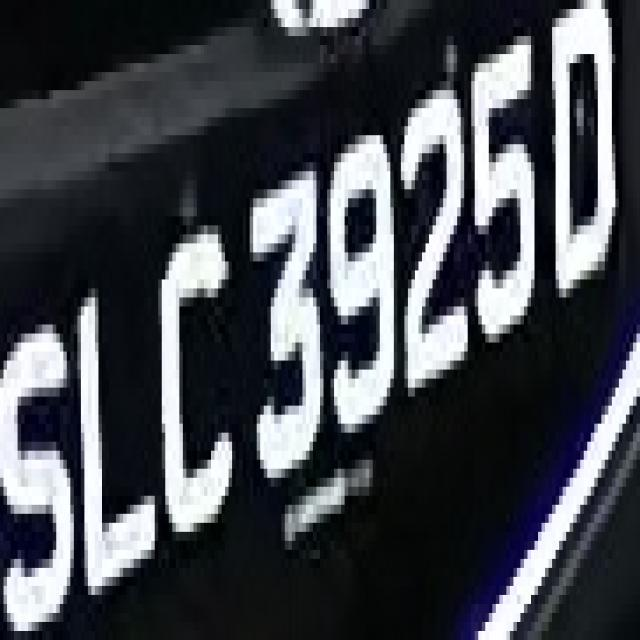2: (394, 63, 464, 424)
3: (243, 153, 334, 523)
5: (464, 0, 552, 379)
9: (309, 135, 408, 460)
C: (144, 225, 236, 568)
D: (538, 18, 619, 343)
L: (85, 243, 152, 604)
S: (10, 288, 81, 631)
